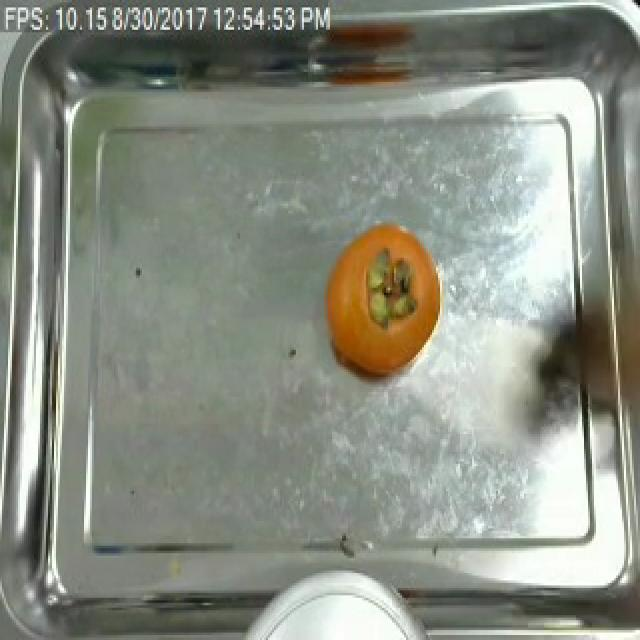Fruit: (318, 216, 448, 384)
